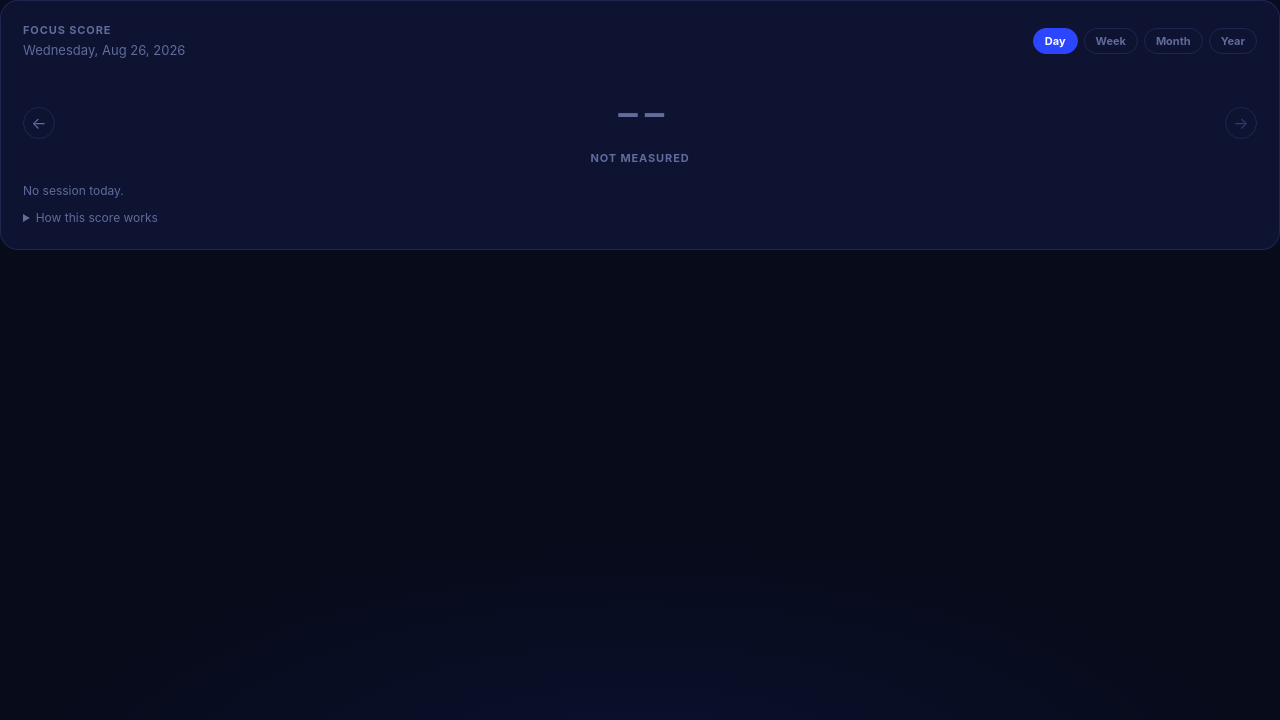
LabDashboard metric labels › keeps the unified weekly explanation in the historical analytics panel
Expected: the text "No session today." is shown, [23, 183, 124, 198]
Click the button "week" at (1111, 40), box [1084, 28, 1138, 54]
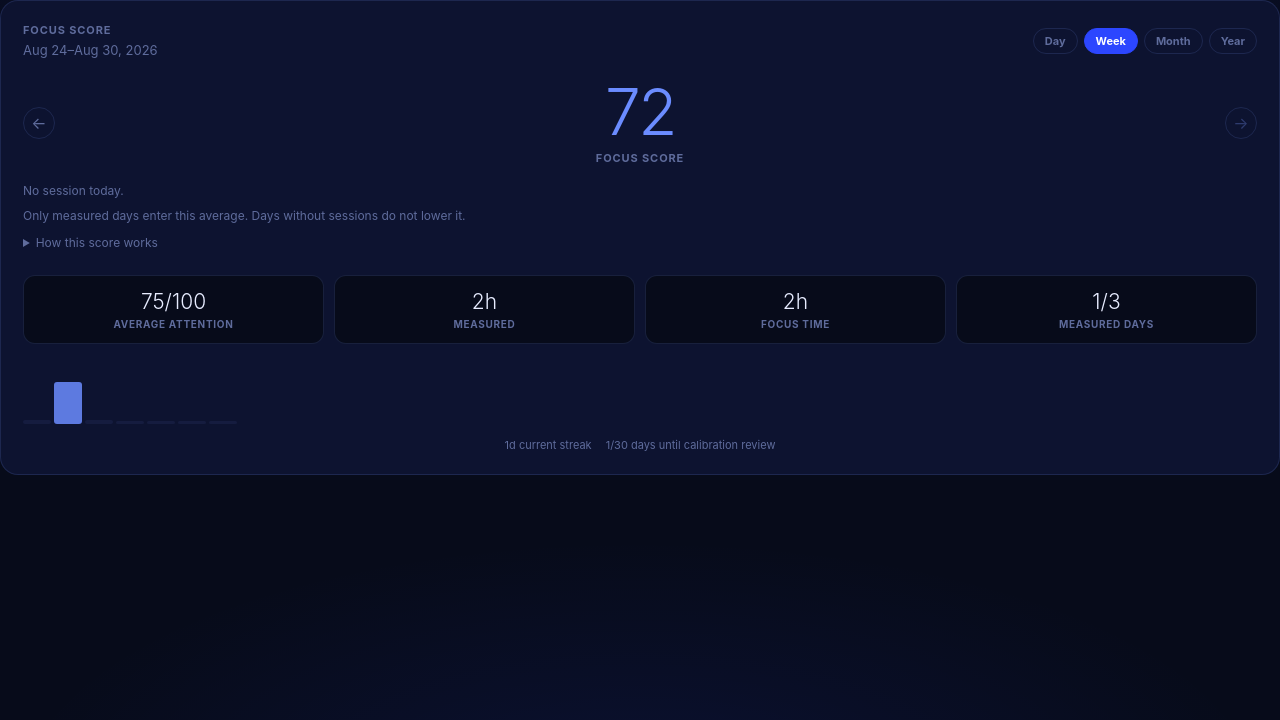
Expected: the text "No session today." is shown, [23, 183, 124, 198]
Result: the text "72" is shown at [605, 73, 675, 150]
Result: the text "Only measured days enter this average. Days without sessions do not lower it." is shown at [23, 208, 466, 223]
